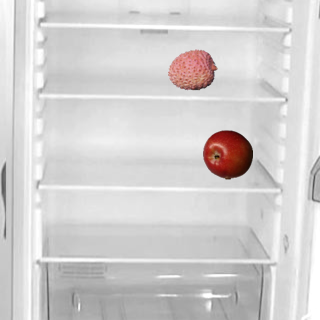Apple Braeburn: (202, 129, 252, 179)
Lychee: (167, 44, 217, 94)
